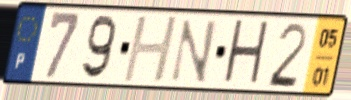2: (266, 21, 309, 91)
7: (45, 9, 82, 82)
9: (79, 14, 120, 82)
H: (120, 14, 182, 85), (219, 17, 272, 90)
N: (167, 17, 220, 85)
